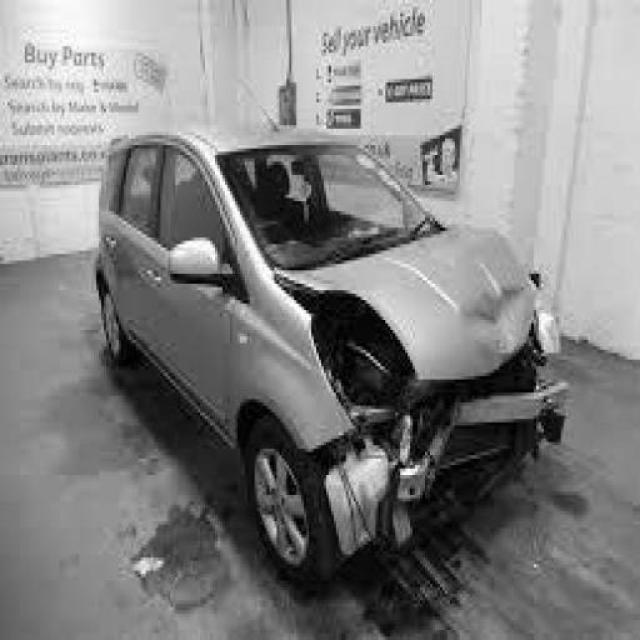crush: (282, 227, 569, 553)
